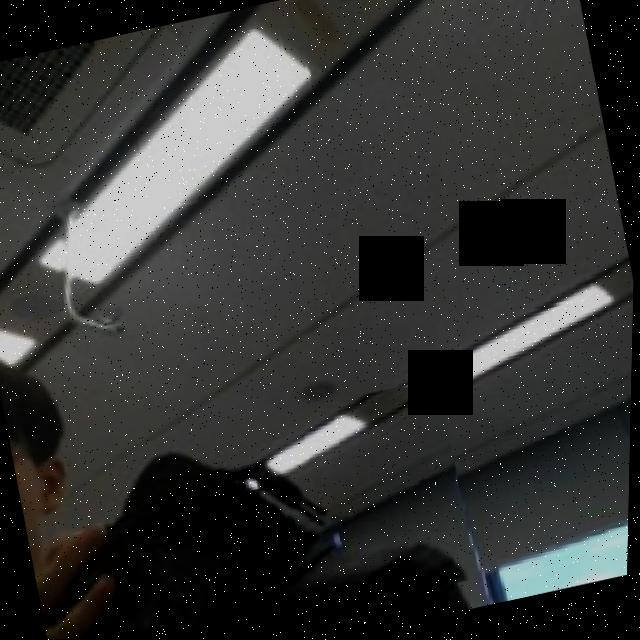shoe: (13, 378, 484, 640)
